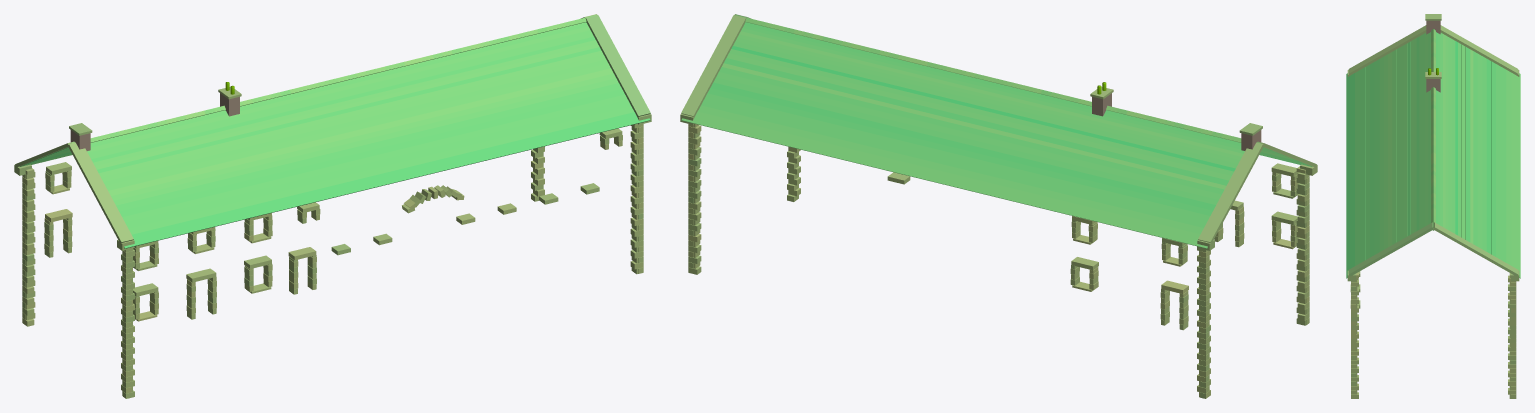
File: SM_Bld_130_Stone.glb
3 renders of one model, left to right at view 1: azimuth 30°, elevation 25°; view 2: azimuth 150°, elevation 25°; view 3: azimuth 270°, elevation 25°, orthographic. The views are drawn at different scales.
Parts seen in each view (by area): view 1: SM_Bld_130_Stone; view 2: SM_Bld_130_Stone; view 3: SM_Bld_130_Stone.
Boxes of the visible parts, x1,y1,x2,y2 form: SM_Bld_130_Stone: (14,14,651,398); SM_Bld_130_Stone: (680,14,1317,398); SM_Bld_130_Stone: (1346,14,1520,398).
Bounding box in the file's own units: 30.63 × 13.19 × 10.99.
